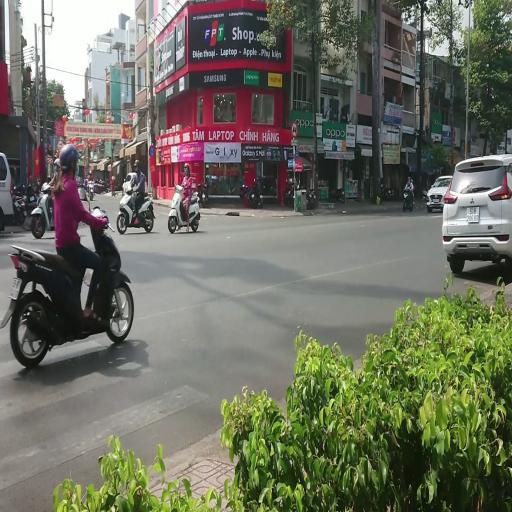bikes: (0, 205, 134, 368), (30, 178, 90, 238), (116, 183, 155, 234), (168, 181, 200, 233), (30, 181, 55, 239), (12, 180, 39, 225), (284, 178, 315, 209), (240, 177, 263, 209), (11, 183, 26, 225), (24, 182, 38, 215), (284, 178, 299, 206), (195, 182, 208, 207), (122, 172, 136, 195), (402, 186, 414, 212), (76, 177, 87, 200), (330, 187, 345, 203), (94, 178, 108, 194), (306, 188, 316, 208), (86, 179, 95, 200)
helmet: (58, 143, 80, 172), (41, 182, 50, 192), (134, 159, 140, 172), (184, 163, 190, 176), (54, 158, 60, 168), (54, 148, 60, 158), (254, 177, 258, 184), (408, 176, 411, 182), (111, 176, 115, 180), (89, 170, 91, 175)
